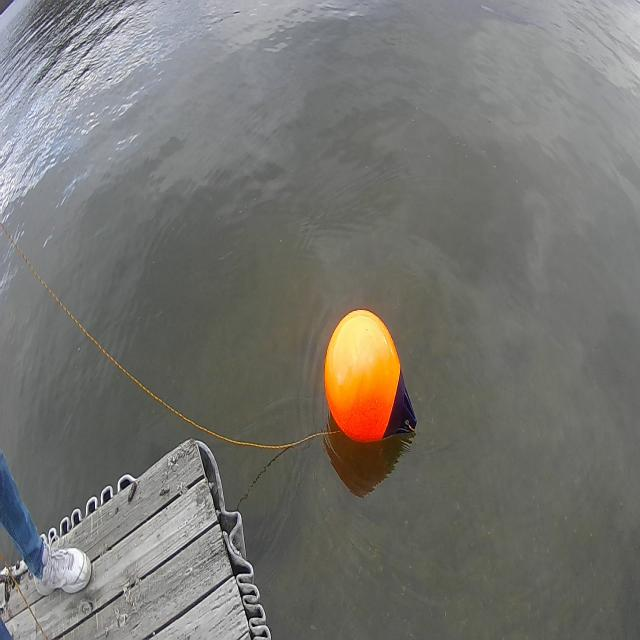Buoy: (322, 306, 402, 448)
